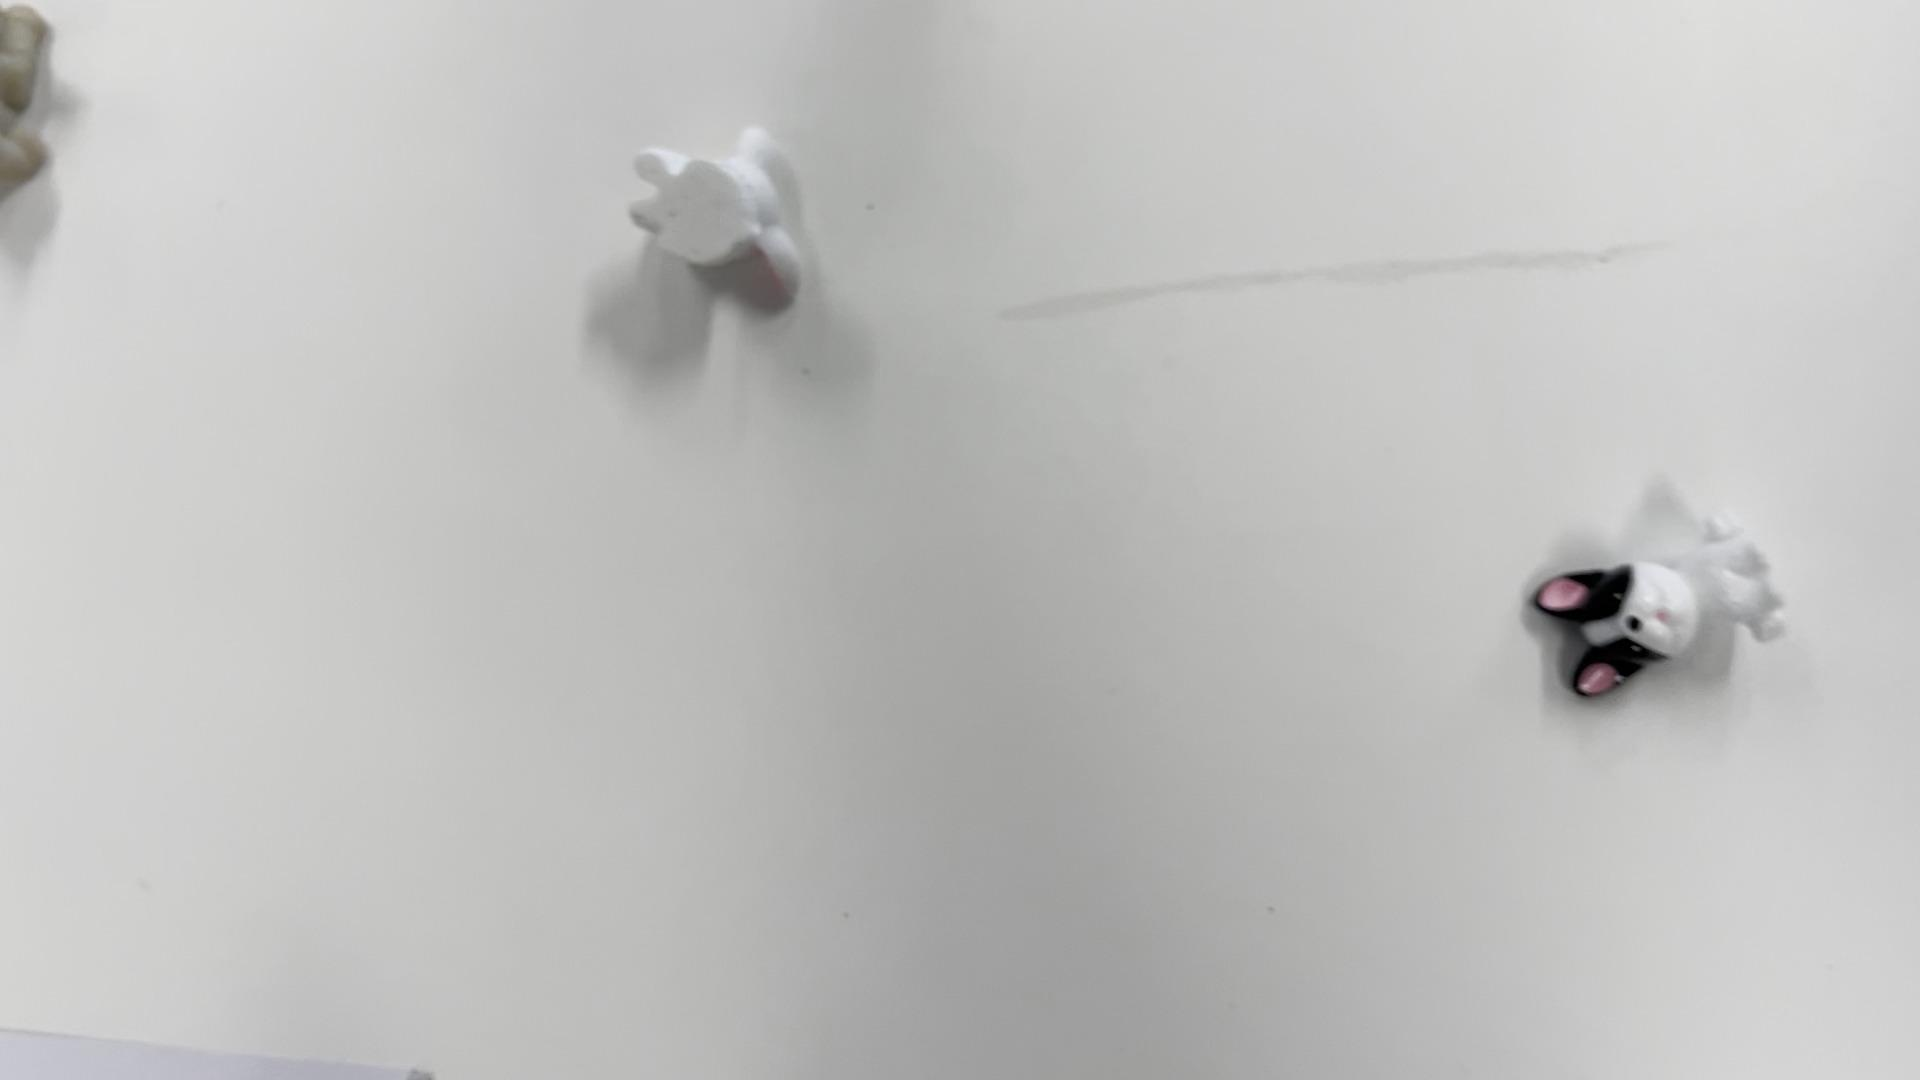pet: (1518, 512, 1789, 711), (615, 109, 814, 319)
